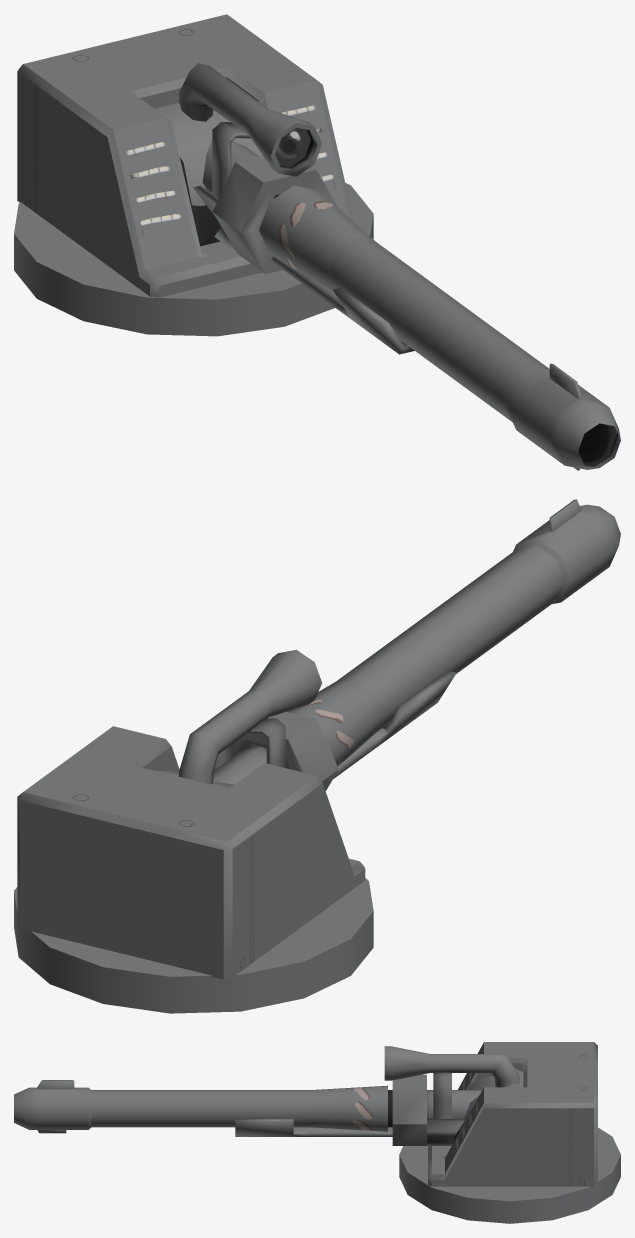
File: cannon.2.fbx
3 views of the same model, one above another, from view 1: azimuth 30°, elevation 25°; view 2: azimuth 150°, elevation 25°; view 3: azimuth 270°, elevation 25° (orthographic). The views are drawn at different scales.
Parts seen in each view (by area): view 1: root, barrel, table, supporter; view 2: root, barrel, table, supporter; view 3: root, barrel, table, supporter.
Boxes of the visible parts, left/top/right/bottom form: root: left=17, top=14, right=353, bottom=297; barrel: left=178, top=63, right=620, bottom=470; table: left=14, top=183, right=373, bottom=336; supporter: left=154, top=102, right=414, bottom=354; root: left=17, top=726, right=365, bottom=979; barrel: left=179, top=499, right=620, bottom=784; table: left=14, top=878, right=373, bottom=1013; supporter: left=155, top=670, right=456, bottom=790; root: left=428, top=1042, right=597, bottom=1187; barrel: left=14, top=1046, right=519, bottom=1133; table: left=399, top=1127, right=620, bottom=1223; supporter: left=235, top=1069, right=523, bottom=1145.
Size of the model in its own units: 431 by 303 by 1181.
3 materials, 3 textured.
